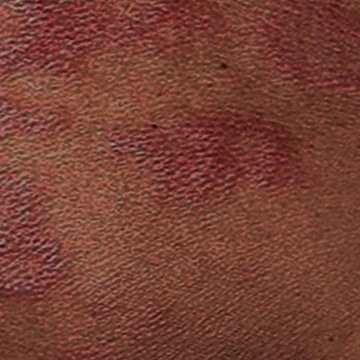Leprosy: (95, 113, 310, 206), (0, 169, 70, 319)
